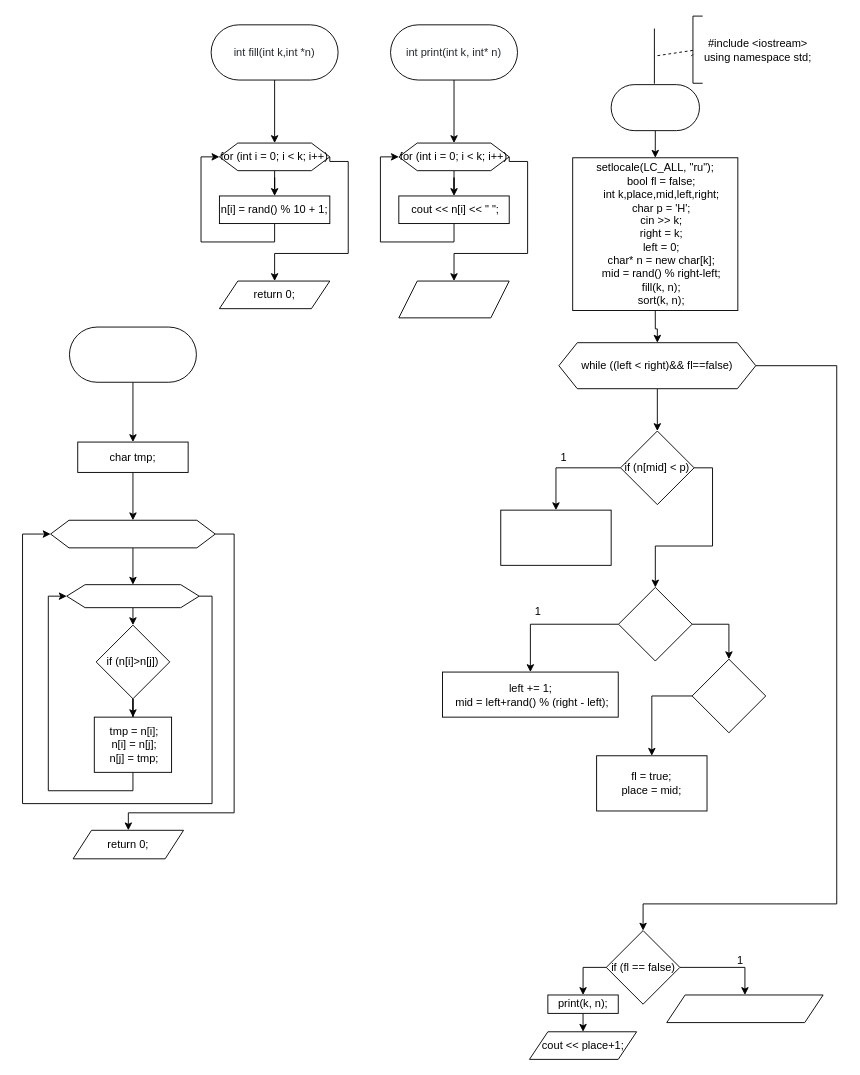
This 860x1075 diagram has some shape labels left out. Here are the shapes that lost their labels. From the top down, the centre of each, then its label:
point 654,107: int main()
point 453,299: cout << endl; return 0;
point 132,354: int sort(int k, char* n)
point 132,533: for ( int i = 0 ; i < k; i++)
point 555,537: right -= 1; mid = left+rand() % (right-left);
point 132,596: for ( int j= 0 ; j < i- 1 ; j++)
point 655,623: if (n[mid]>p)
point 728,695: if (n[mid]==p)
point 744,1008: cout << "There is no H";
